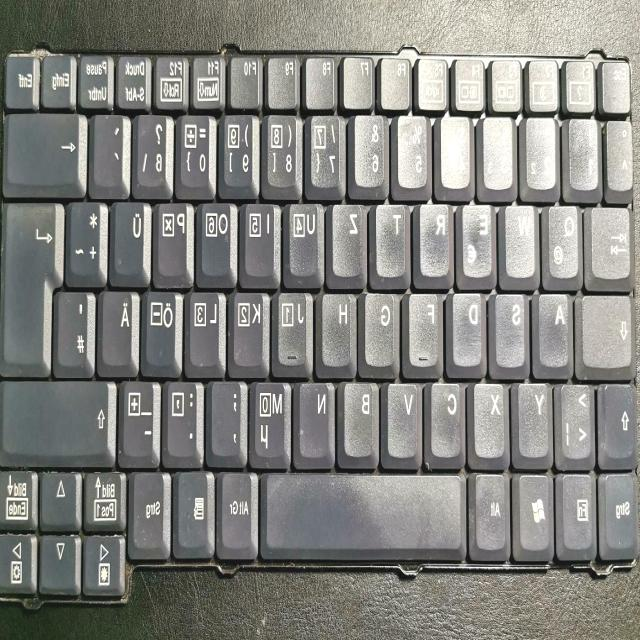0: (179, 109, 217, 194)
1: (569, 114, 602, 192)
2: (526, 112, 560, 190)
3: (483, 112, 517, 190)
4: (441, 111, 473, 189)
5: (398, 111, 432, 190)
6: (354, 109, 391, 191)
7: (309, 110, 346, 192)
8: (267, 110, 301, 192)
9: (223, 109, 260, 194)
a: (539, 286, 575, 372)
accent: (94, 107, 134, 193)
ae: (102, 284, 142, 368)
alt-left: (476, 468, 512, 554)
altgr-right: (221, 466, 260, 554)
b: (343, 376, 382, 462)
c: (431, 377, 467, 459)
caret: (608, 115, 636, 193)
comma: (212, 375, 249, 457)
d: (453, 287, 489, 369)
del: (5, 105, 90, 191)
e: (462, 200, 496, 280)
enter: (1, 197, 67, 373)
f: (409, 288, 443, 368)
g: (365, 286, 401, 368)
h: (322, 288, 359, 371)
hash: (57, 284, 97, 372)
i: (243, 198, 281, 278)
j: (277, 286, 315, 374)
k: (233, 286, 271, 370)
keyboard: (0, 38, 640, 602)
l: (189, 286, 226, 368)
less: (561, 377, 596, 461)
m: (254, 376, 294, 466)
minus: (122, 374, 162, 460)
n: (299, 376, 338, 462)
o: (199, 196, 240, 282)
oe: (143, 286, 183, 370)
p: (156, 197, 196, 282)
plus: (69, 195, 111, 283)
point: (165, 375, 204, 457)
q: (548, 200, 583, 282)
r: (419, 198, 455, 280)
s: (495, 288, 530, 370)
shift-left: (602, 378, 640, 461)
shift-lock: (582, 289, 636, 372)
shift-right: (1, 373, 119, 463)
space: (265, 467, 467, 555)
ss: (137, 107, 176, 193)
strg-left: (604, 468, 640, 556)
strg-right: (130, 465, 174, 557)
t: (377, 200, 411, 280)
tab: (592, 201, 634, 279)
u: (287, 197, 326, 286)
ue: (115, 194, 155, 284)
v: (388, 376, 424, 462)
w: (505, 200, 541, 280)
x: (474, 377, 510, 460)
y: (518, 377, 554, 461)
z: (333, 199, 369, 281)
